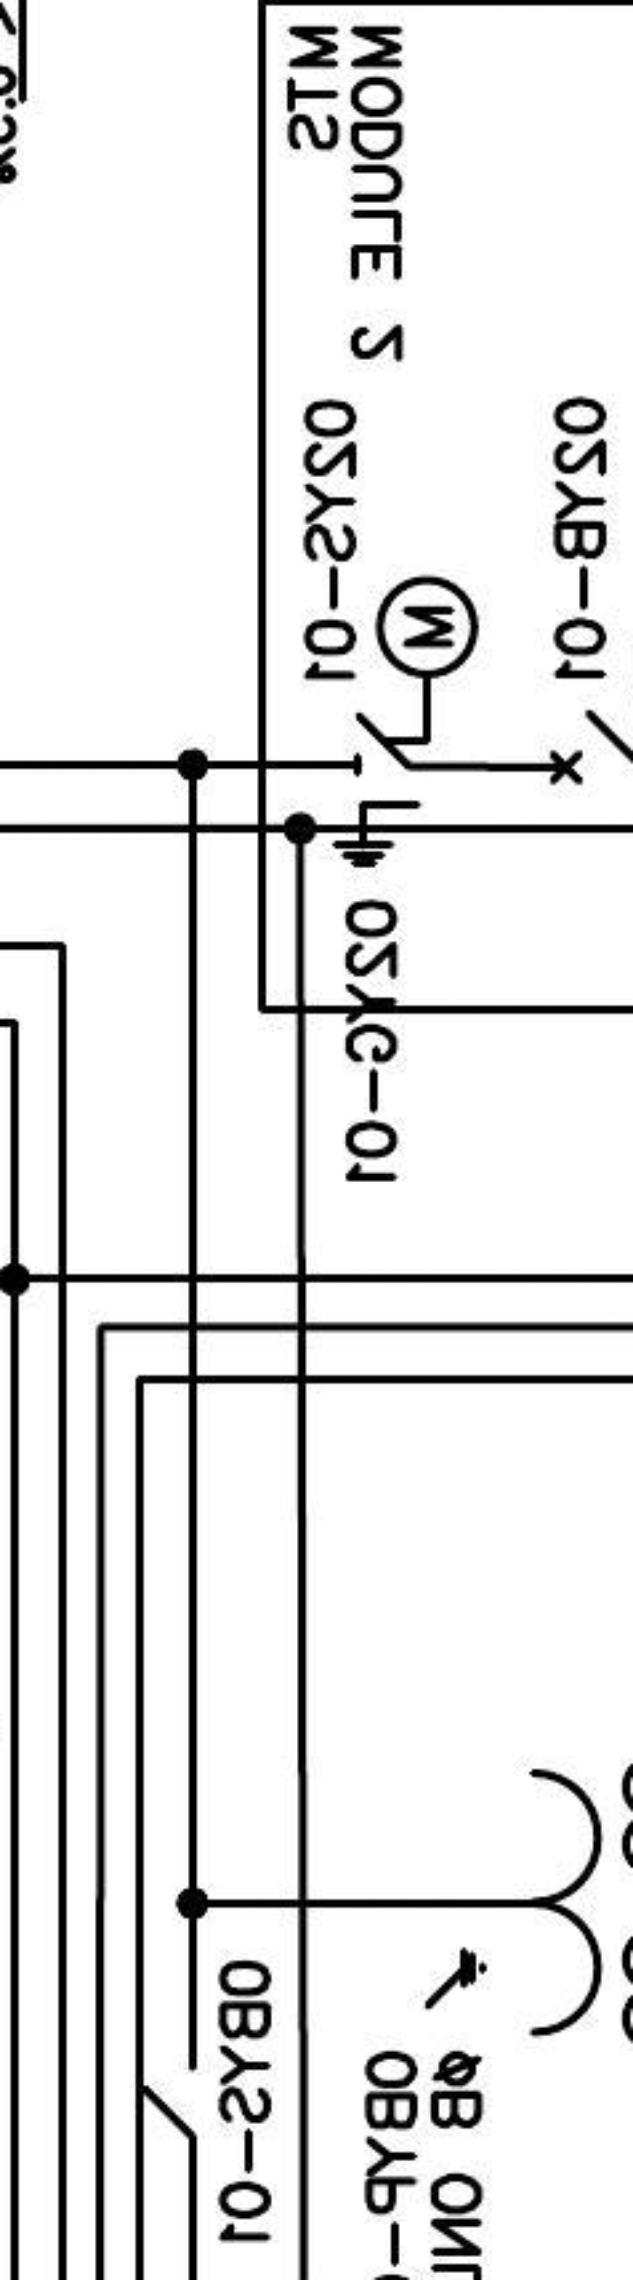115_3ways_ds_w_motor: (330, 573, 482, 871)
115_ds: (144, 2060, 198, 2140)
